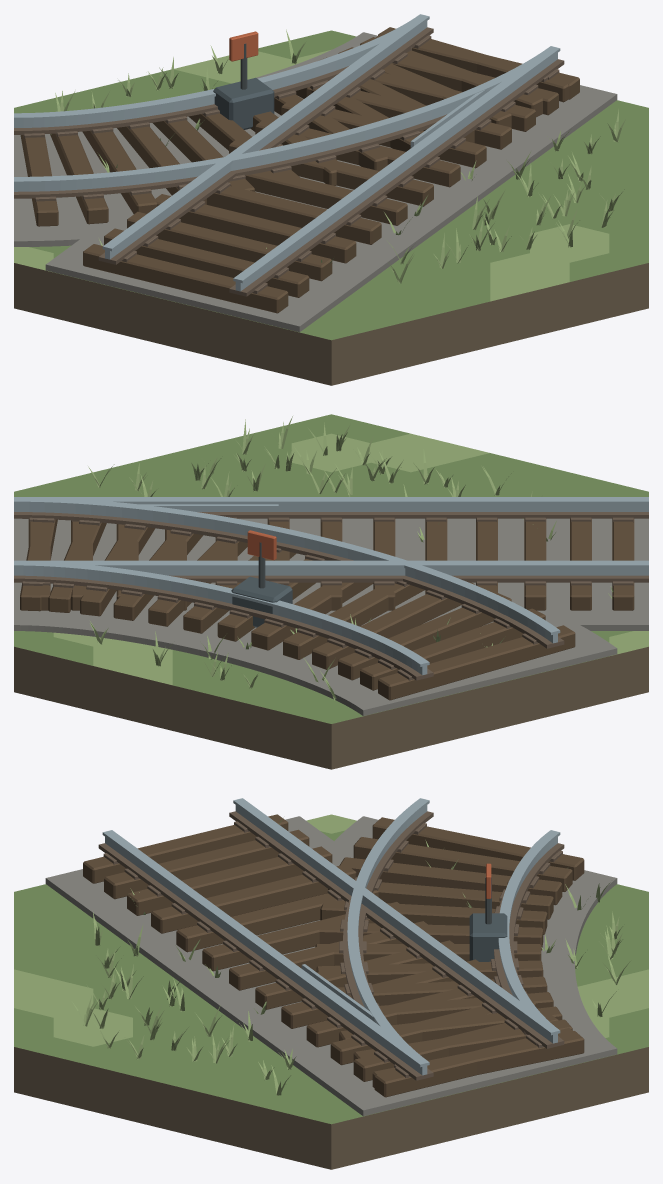
Rendered from rail-track.glb.
3 renders of one model, top to bottom at view 1: azimuth 30°, elevation 25°; view 2: azimuth 150°, elevation 25°; view 3: azimuth 270°, elevation 25°, orthographic.
Visible parts, largest first — view 1: RouteRoot_mesh, RouteBuild.001_mesh, RouteBuild.044_mesh, RouteBuild.090_mesh, RouteBuild.032_mesh, RouteBuild.035_mesh, RouteBuild.038_mesh, RouteBuild.041_mesh, RouteBuild.029_mesh, RouteBuild.002_mesh, RouteBuild.026_mesh, RouteBuild.179_mesh (+66 smaller); view 2: RouteRoot_mesh, RouteBuild.001_mesh, RouteBuild.090_mesh, RouteBuild.133_mesh, RouteBuild.124_mesh, RouteBuild.127_mesh, RouteBuild.130_mesh, RouteBuild.006_mesh, RouteBuild.121_mesh, RouteBuild.002_mesh, RouteBuild.003_mesh, RouteBuild.180_mesh (+82 smaller); view 3: RouteRoot_mesh, RouteBuild.006_mesh, RouteBuild.035_mesh, RouteBuild.038_mesh, RouteBuild.041_mesh, RouteBuild.130_mesh, RouteBuild.127_mesh, RouteBuild.044_mesh, RouteBuild.032_mesh, RouteBuild.001_mesh, RouteBuild.133_mesh, RouteBuild.097_mesh (+52 smaller).
Boxes of the visible parts, x1,y1,x2,y2 form: RouteRoot_mesh: [14, 30, 648, 385]; RouteBuild.001_mesh: [45, 223, 355, 332]; RouteBuild.044_mesh: [83, 244, 288, 313]; RouteBuild.090_mesh: [14, 131, 132, 241]; RouteBuild.032_mesh: [207, 186, 381, 244]; RouteBuild.035_mesh: [153, 194, 356, 263]; RouteBuild.038_mesh: [127, 211, 332, 281]; RouteBuild.041_mesh: [104, 228, 309, 297]; RouteBuild.029_mesh: [209, 159, 407, 225]; RouteBuild.002_mesh: [103, 192, 405, 322]; RouteBuild.026_mesh: [229, 137, 433, 206]; RouteBuild.179_mesh: [45, 132, 354, 300]; RouteRoot_mesh: [14, 414, 648, 769]; RouteBuild.001_mesh: [537, 518, 648, 624]; RouteBuild.090_mesh: [321, 615, 617, 715]; RouteBuild.133_mesh: [378, 625, 575, 700]; RouteBuild.124_mesh: [312, 582, 474, 669]; RouteBuild.127_mesh: [338, 593, 511, 680]; RouteBuild.130_mesh: [360, 608, 545, 690]; RouteBuild.006_mesh: [14, 518, 127, 624]; RouteBuild.121_mesh: [283, 583, 424, 659]; RouteBuild.002_mesh: [436, 518, 524, 624]; RouteBuild.003_mesh: [331, 518, 436, 623]; RouteBuild.180_mesh: [281, 518, 524, 690]; RouteRoot_mesh: [14, 814, 648, 1169]; RouteBuild.006_mesh: [265, 1007, 616, 1110]; RouteBuild.035_mesh: [151, 864, 356, 933]; RouteBuild.038_mesh: [127, 846, 332, 915]; RouteBuild.041_mesh: [104, 829, 309, 899]; RouteBuild.130_mesh: [353, 837, 572, 891]; RouteBuild.127_mesh: [339, 857, 562, 905]; RouteBuild.044_mesh: [83, 814, 288, 883]; RouteBuild.032_mesh: [176, 889, 379, 952]; RouteBuild.001_mesh: [45, 816, 353, 919]; RouteBuild.133_mesh: [372, 817, 584, 880]; RouteBuild.097_mesh: [372, 1031, 584, 1087].
Bounding box in the file's own units: 3.5 × 0.74 × 3.03.
